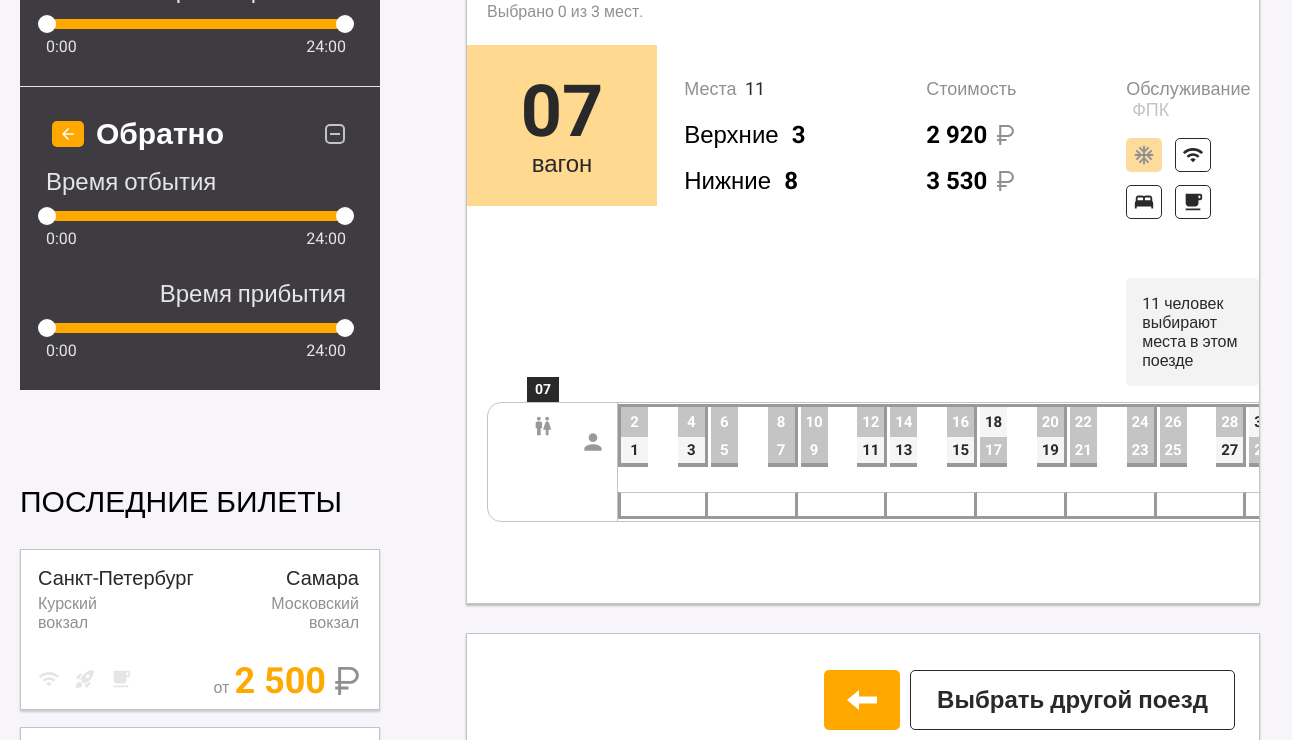
Test case: выбор мест › выбирает места не больше, чем билетов, и считает сумму
The width and height of the screenshot is (1292, 740).
(page scrolled)
Expected: the button named "Место 2, верхнее, занято" is disabled, [621, 407, 648, 437]
Click the button named "Место 1, нижнее, свободно" at [634, 450], box [621, 437, 648, 463]
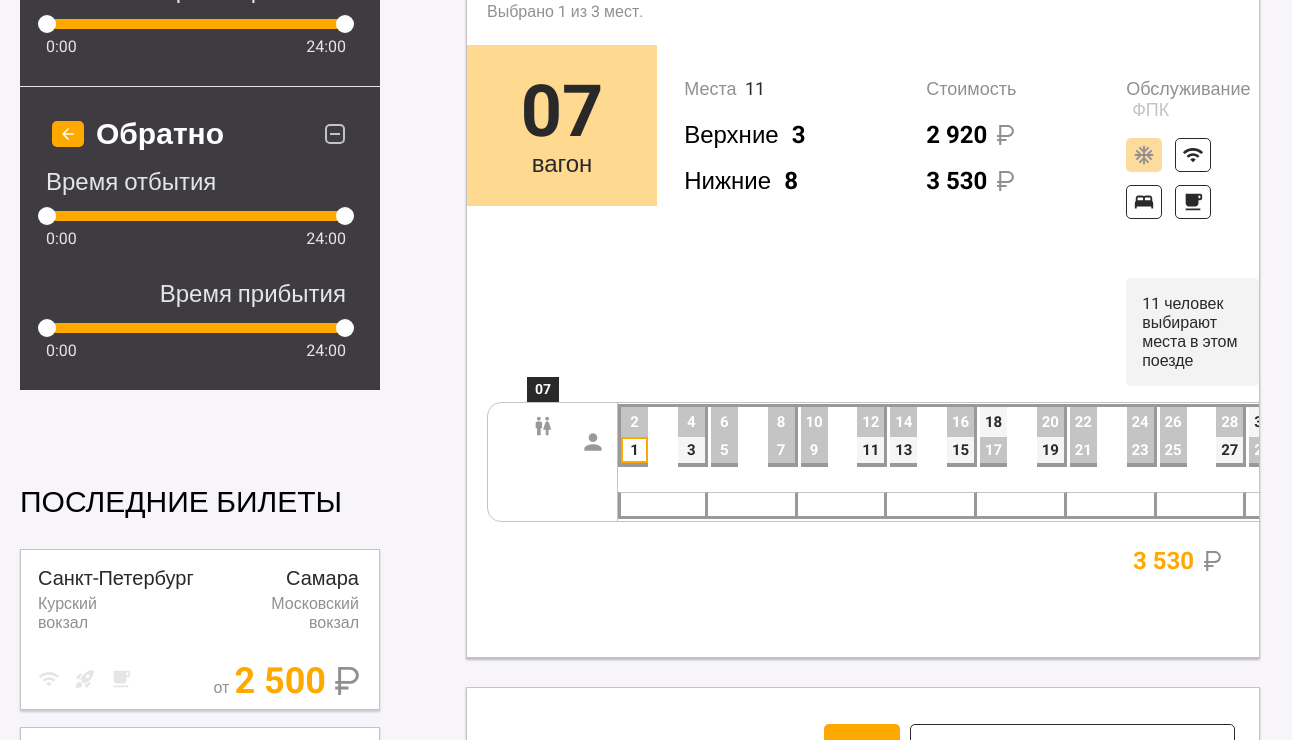
Click the button "3" at [691, 450], box [678, 437, 705, 463]
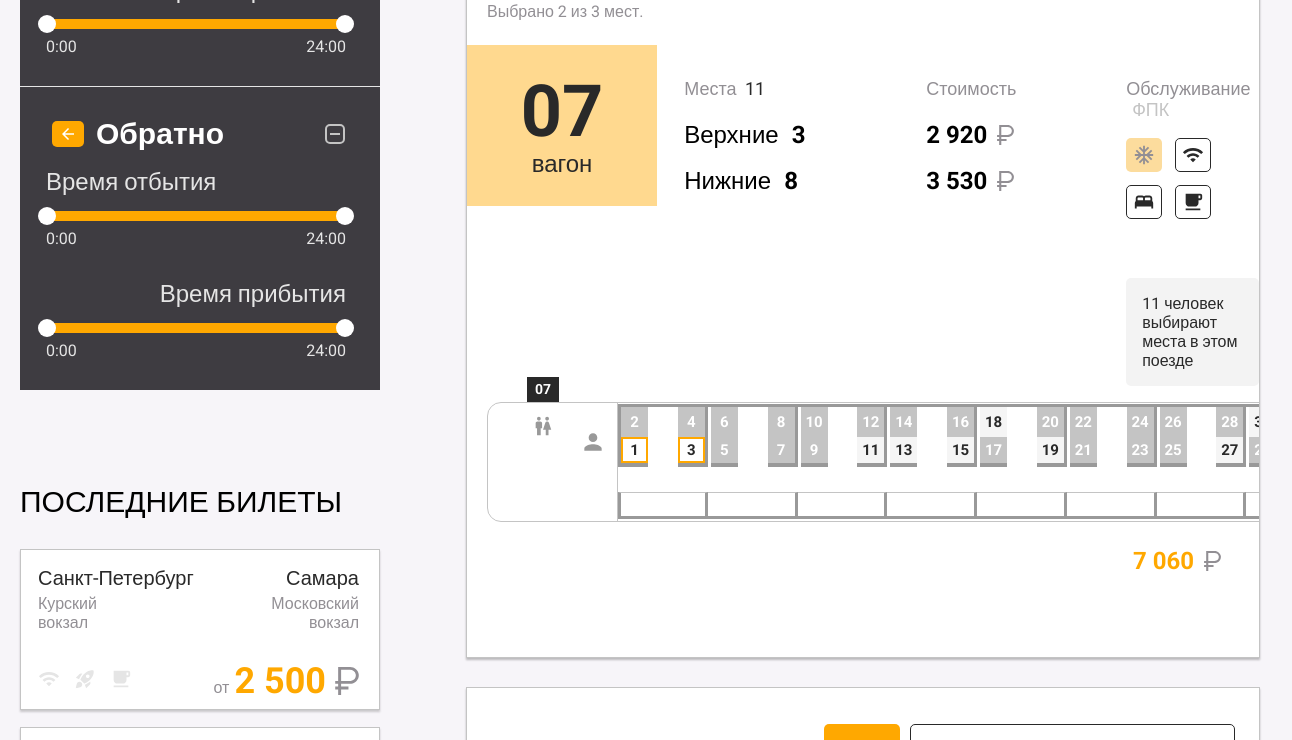
Click the button named "Место 11, нижнее, свободно" at [871, 450], box [857, 437, 884, 463]
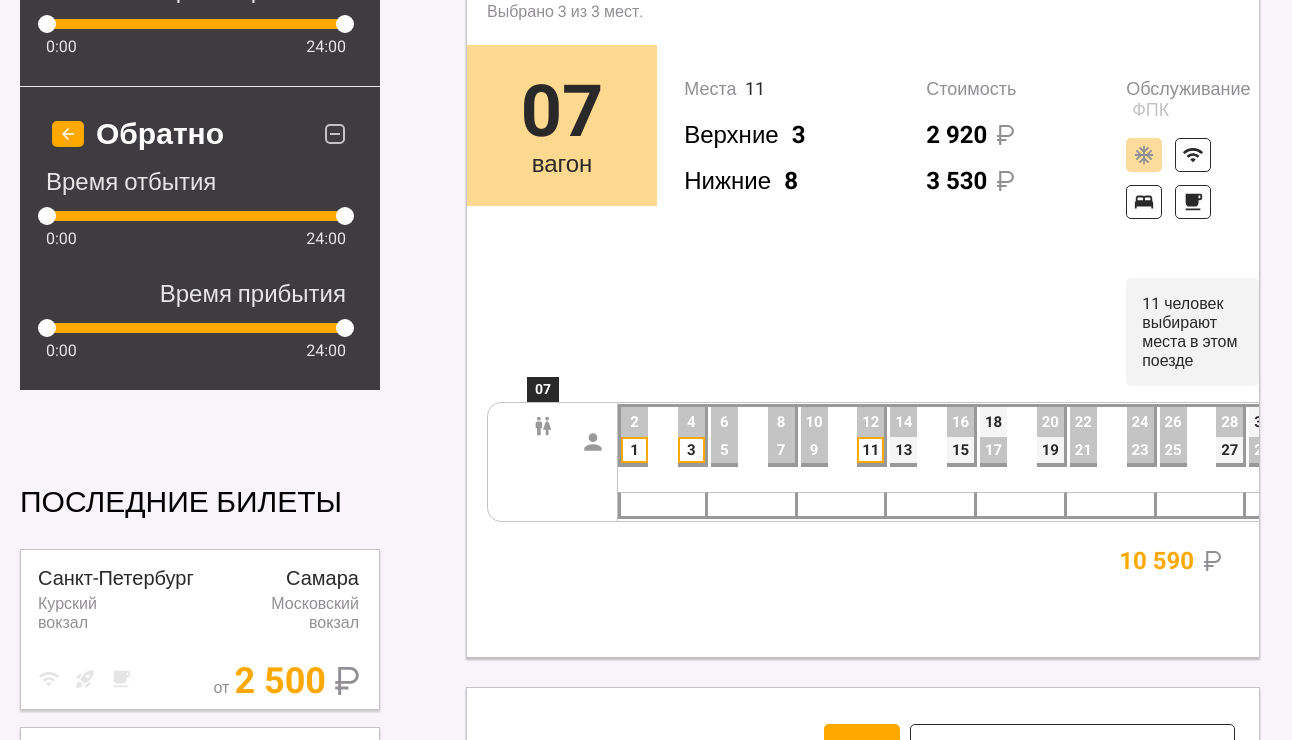
Expected: the message reads "Выбрано 3 из 3 мест.", [487, 2, 644, 21]
Click the button named "Место 13, нижнее, свободно" at [904, 450], box [890, 437, 917, 463]
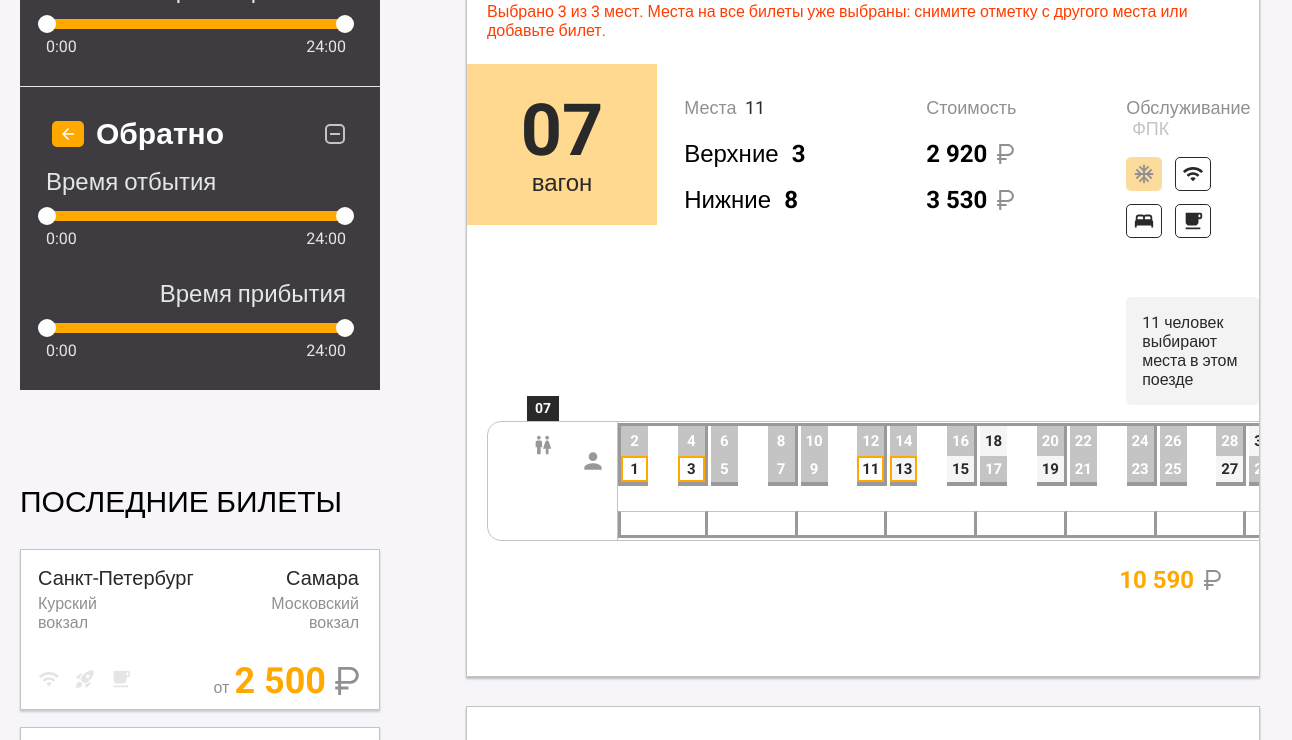
Expected: the message shows "снимите отметку", [487, 2, 1188, 40]
Click the button named "Место 1, нижнее, выбрано" at [634, 469], box [621, 456, 648, 482]
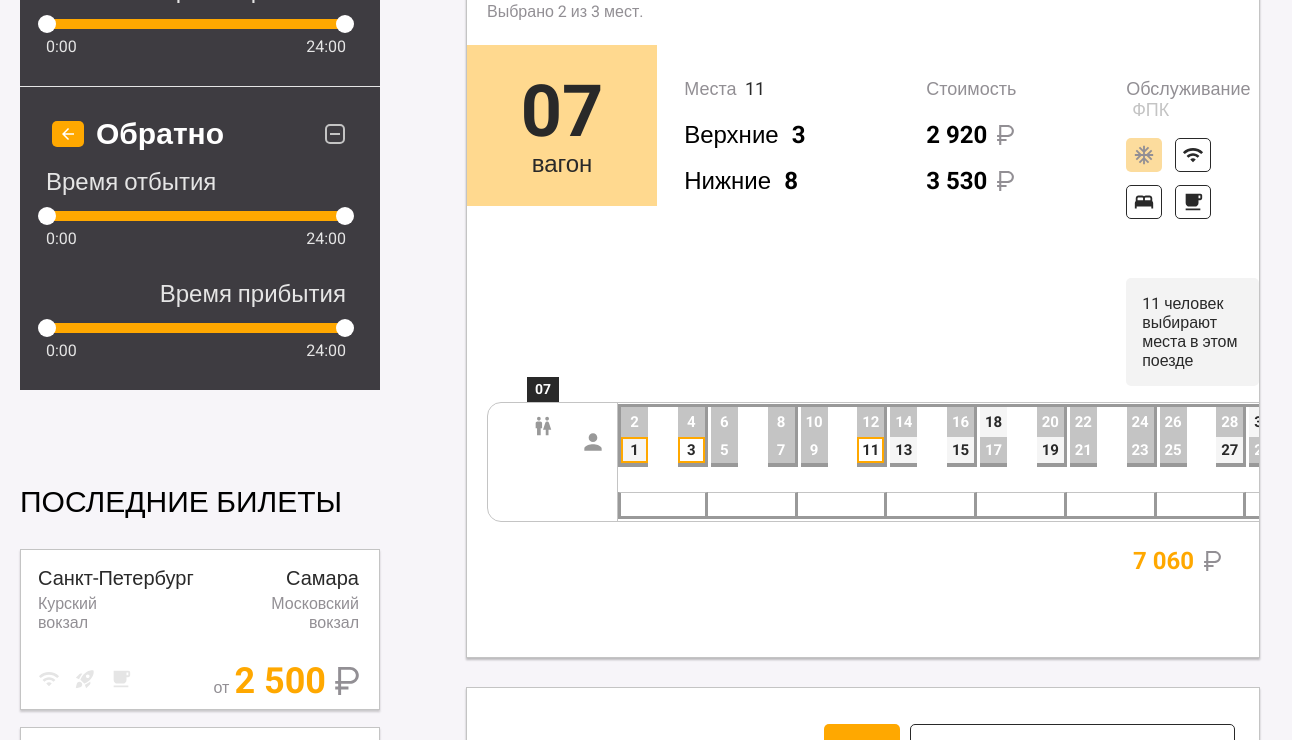
Expected: the message reads "Выбрано 2 из 3 мест.", [487, 2, 644, 21]
